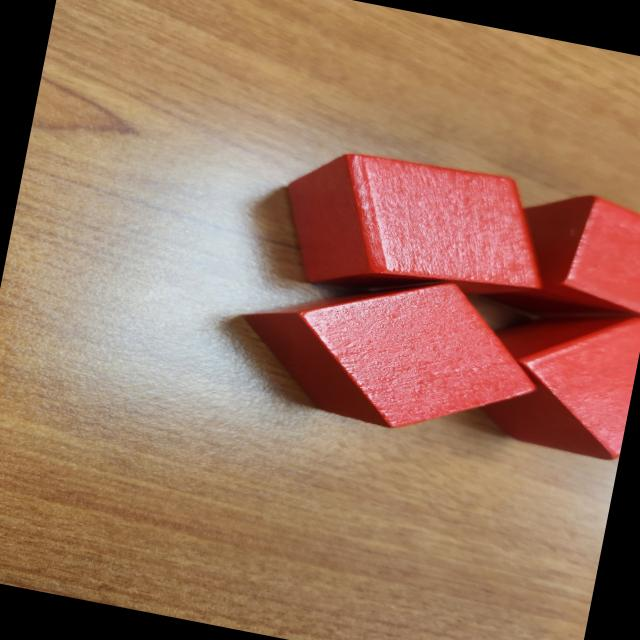red: (228, 244, 559, 456), (268, 137, 562, 327), (475, 292, 640, 463), (472, 175, 640, 337)
